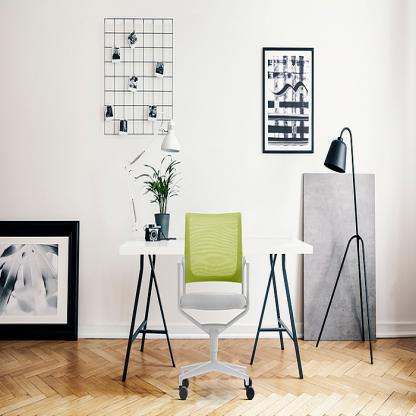chair: (177, 210, 248, 402)
light: (315, 112, 378, 374)
table: (117, 231, 316, 373)
